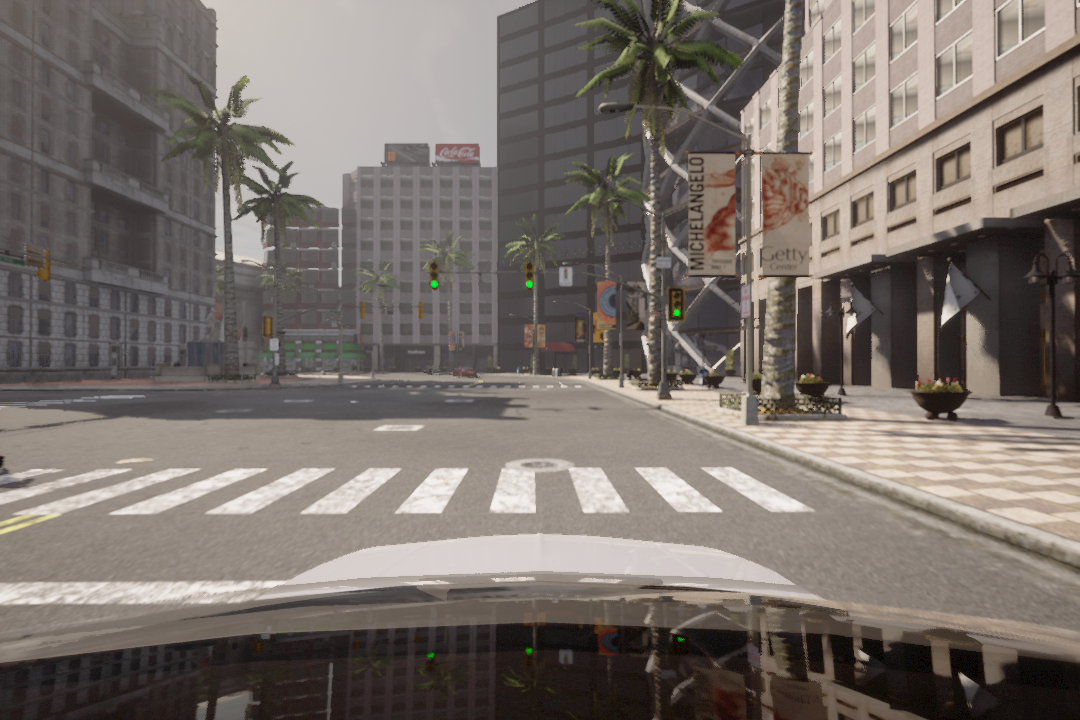TrafficLight: (670, 288, 685, 323), (428, 262, 441, 292), (524, 261, 534, 292)
walkside: (6, 468, 826, 519)
